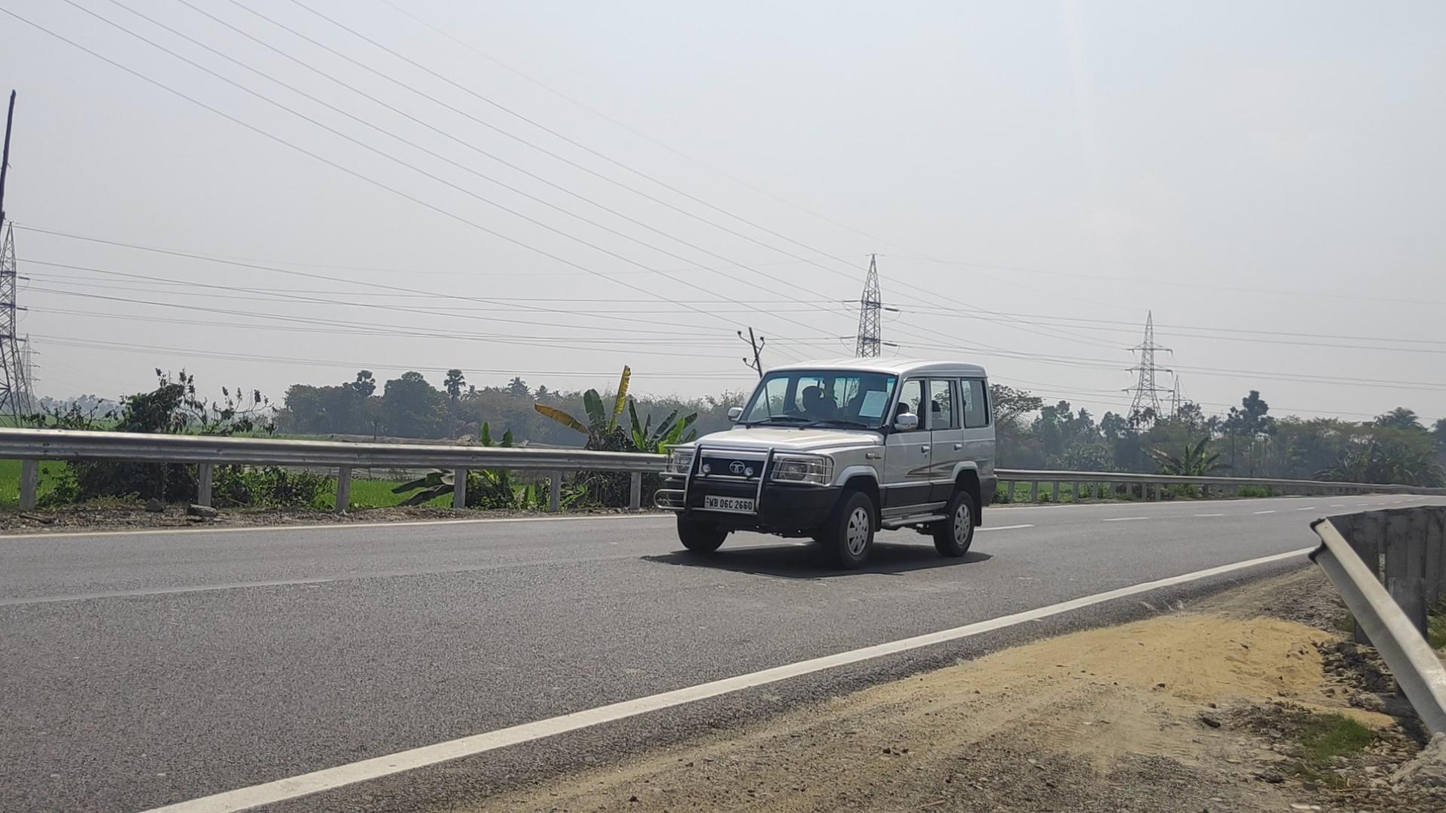car: (653, 358, 996, 569)
